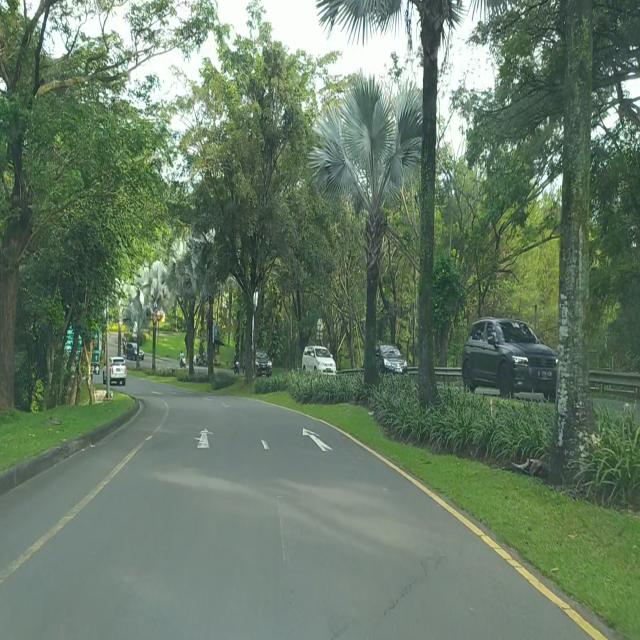Sewer Cover: (383, 552, 440, 617)
